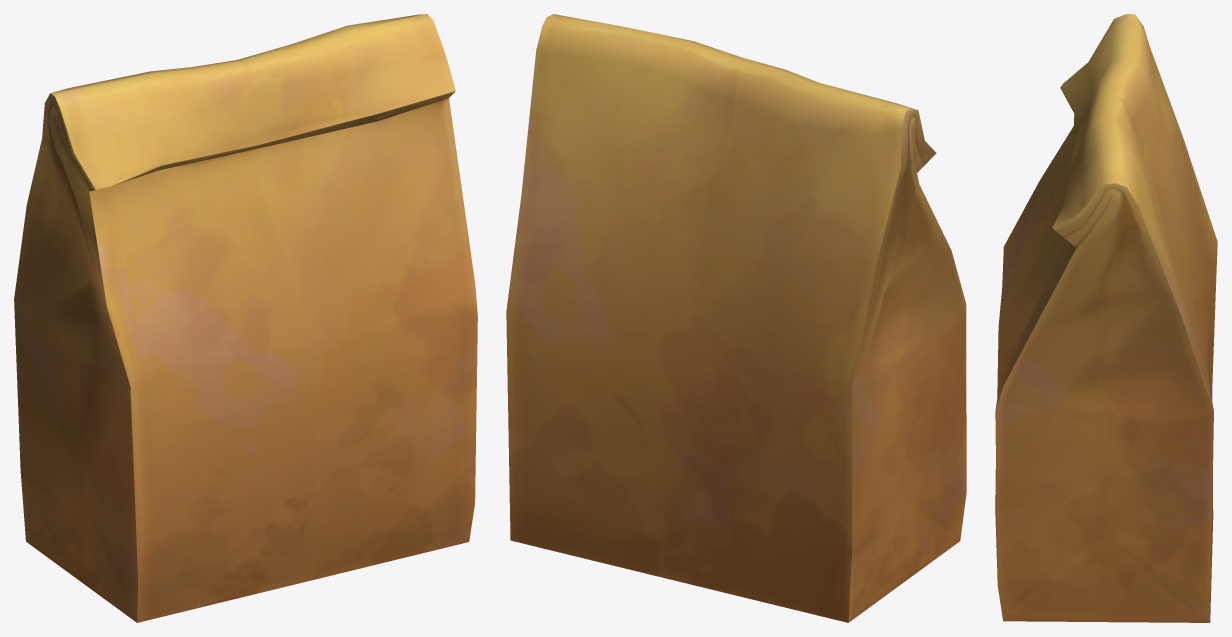
Rendered from SM_FastFoodBagClosed.glb.
The picture shows the model from 3 angles, left to right: view 1: azimuth 30°, elevation 25°; view 2: azimuth 150°, elevation 25°; view 3: azimuth 270°, elevation 25°; orthographic projection. The views are drawn at different scales.
Parts seen in each view (by area): view 1: SM_FastFoodBagClosed; view 2: SM_FastFoodBagClosed; view 3: SM_FastFoodBagClosed.
Boxes of the visible parts, bbox=[...] form: SM_FastFoodBagClosed: bbox=[14, 14, 477, 622]; SM_FastFoodBagClosed: bbox=[506, 14, 966, 622]; SM_FastFoodBagClosed: bbox=[995, 14, 1217, 622].
Size of the model in its own units: 0.3064 by 0.3818 by 0.1705.
1 material, 1 textured.
